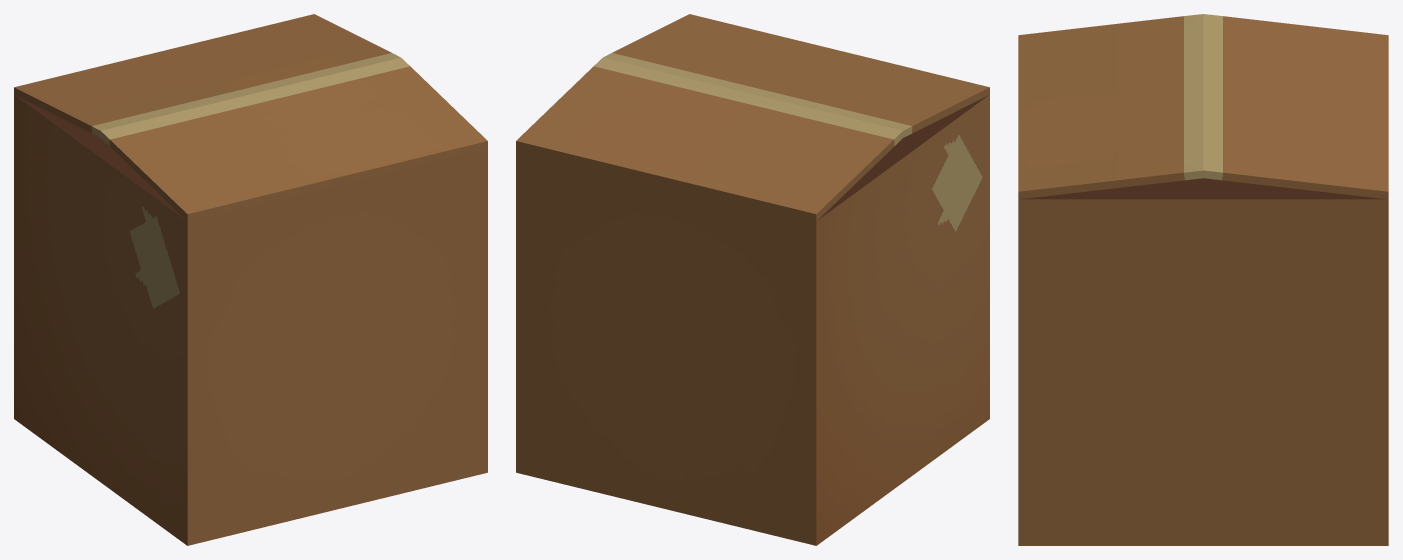
File: BoxSemiOpen.fbx
The picture shows the model from 3 angles, left to right: view 1: azimuth 30°, elevation 25°; view 2: azimuth 150°, elevation 25°; view 3: azimuth 270°, elevation 25°; orthographic projection. The views are drawn at different scales.
Visible parts, largest first — view 1: BoxSemiOpen; view 2: BoxSemiOpen; view 3: BoxSemiOpen.
Boxes of the visible parts, bbox=[...] form: BoxSemiOpen: bbox=[14, 14, 487, 545]; BoxSemiOpen: bbox=[516, 14, 989, 545]; BoxSemiOpen: bbox=[1018, 14, 1388, 545].
Bounding box in the file's own units: 52.41 × 58.61 × 52.41.
1 material, 1 textured.
